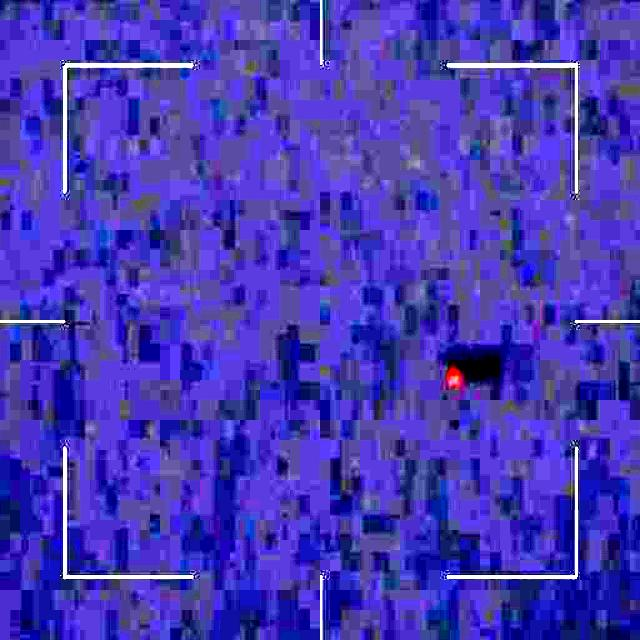bird: (445, 351, 475, 401)
